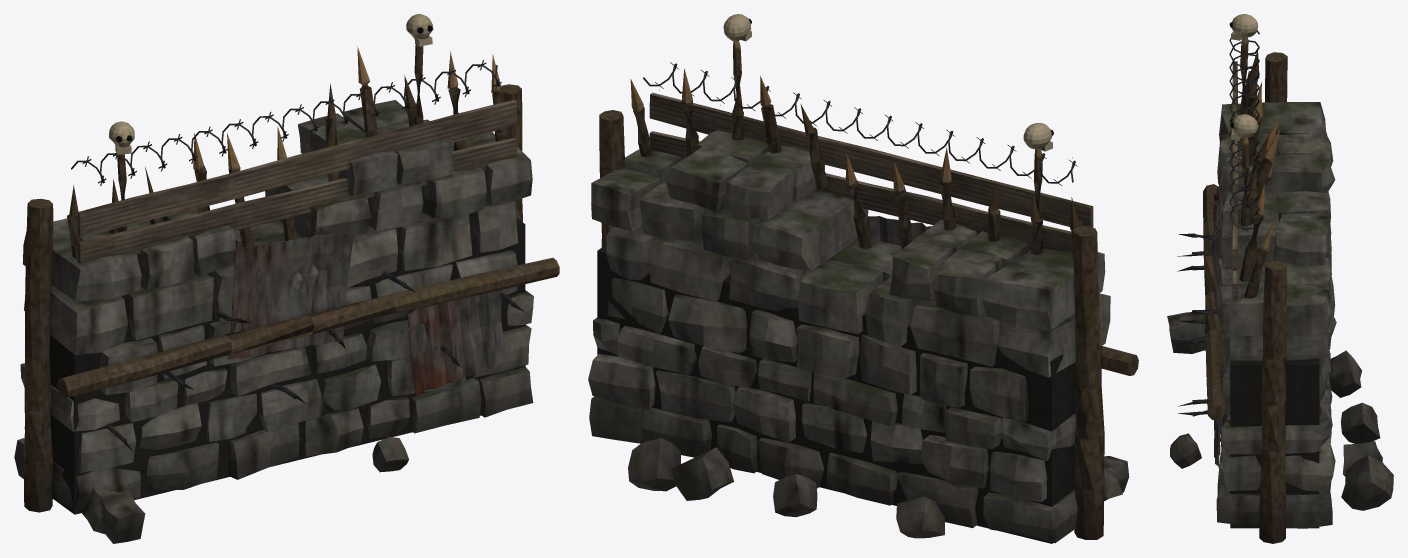
The model's file is stone_wall.glb.
3 views of the same model, side by side, from view 1: azimuth 30°, elevation 25°; view 2: azimuth 150°, elevation 25°; view 3: azimuth 270°, elevation 25° (orthographic). The views are drawn at different scales.
Visible parts, largest first — view 1: Lv1, Lv2, Lv3; view 2: Lv1, Lv2, Lv3; view 3: Lv1, Lv3, Lv2.
Boxes of the visible parts, left/top/right/bottom form: Lv1: left=14, top=84, right=559, bottom=543; Lv2: left=67, top=46, right=517, bottom=263; Lv3: left=71, top=14, right=525, bottom=451; Lv1: left=588, top=110, right=1138, bottom=543; Lv2: left=630, top=69, right=1093, bottom=260; Lv3: left=643, top=14, right=1077, bottom=245; Lv1: left=1167, top=52, right=1393, bottom=543; Lv3: left=1177, top=14, right=1259, bottom=467; Lv2: left=1232, top=51, right=1280, bottom=299.
Bounding box in the file's own units: 4.34 × 3.56 × 1.88.
1 material, 1 textured.
